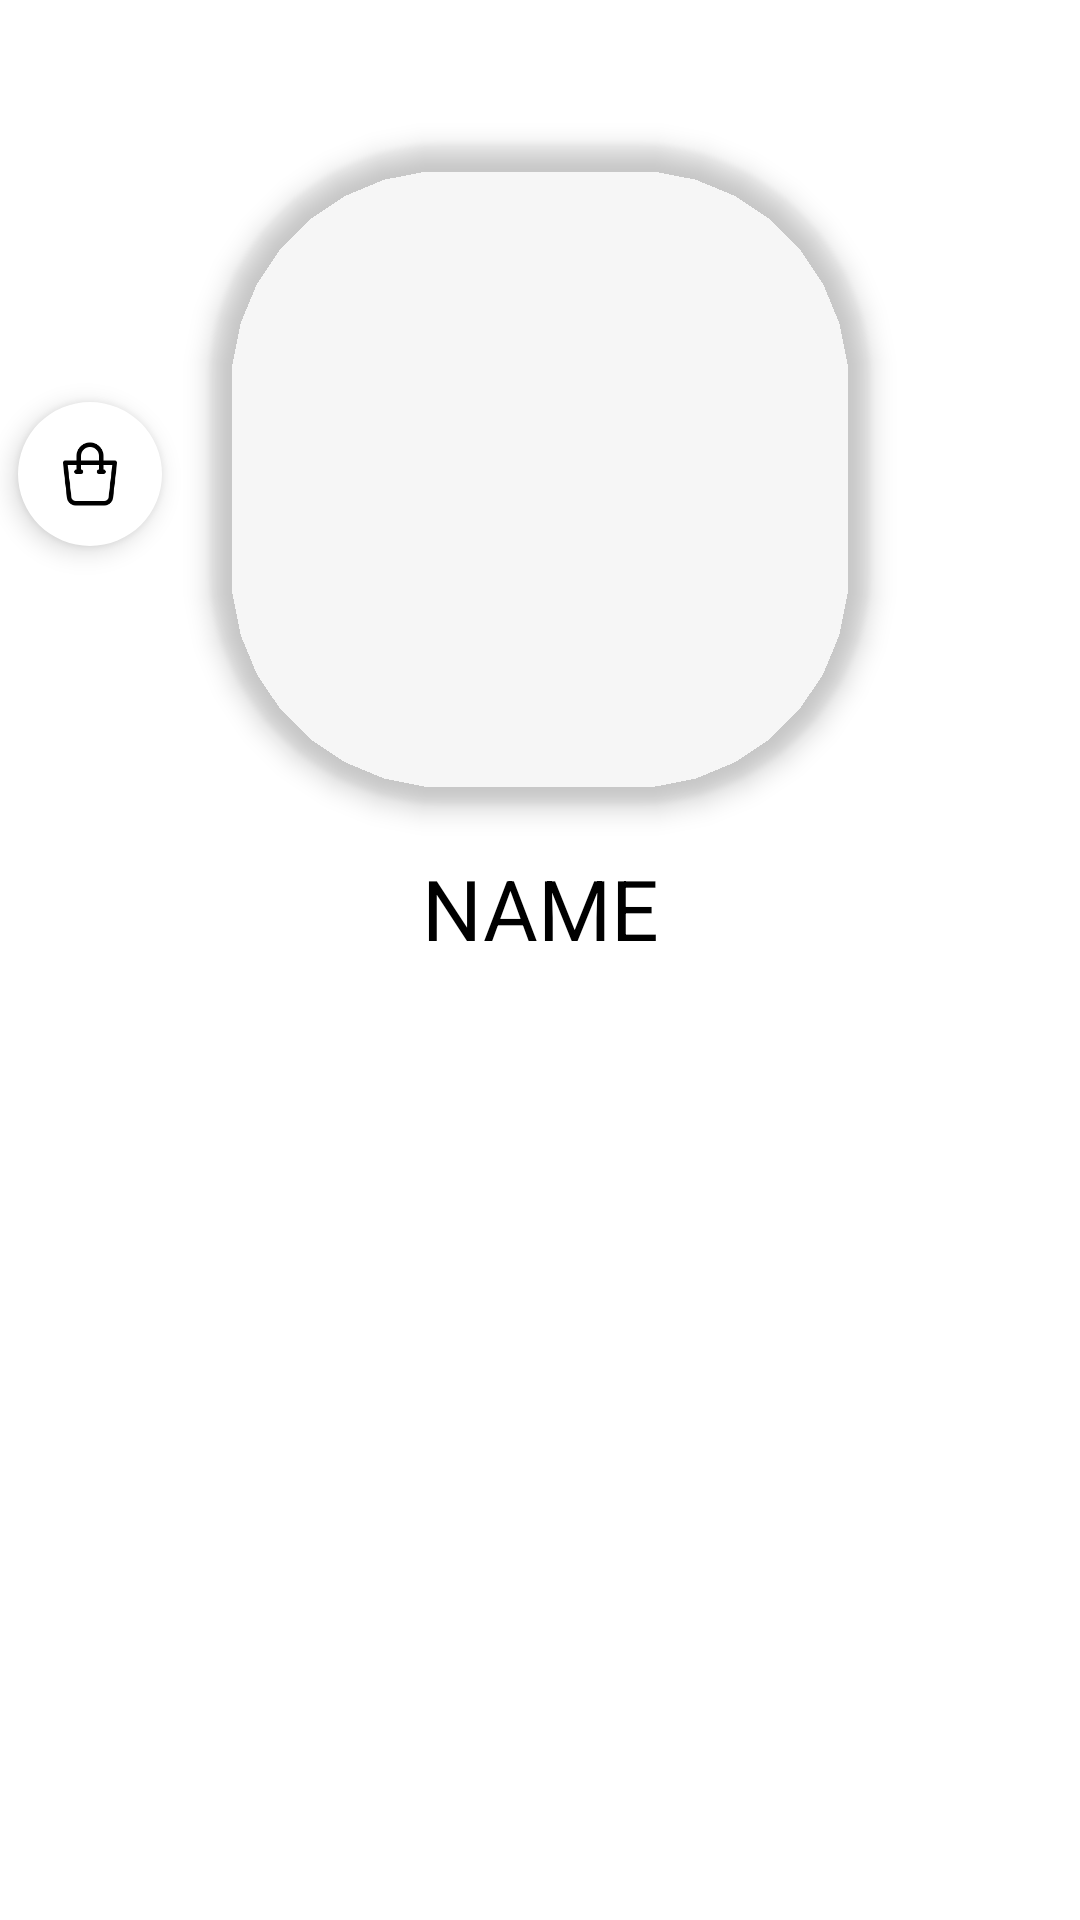

Screen size 1080*1920. Icon name, then its box in pixels as {"left": x1, "top": y1, "right": x2, "bottom": y2}:
shopping bag: {"left": 18, "top": 440, "right": 129, "bottom": 546}
